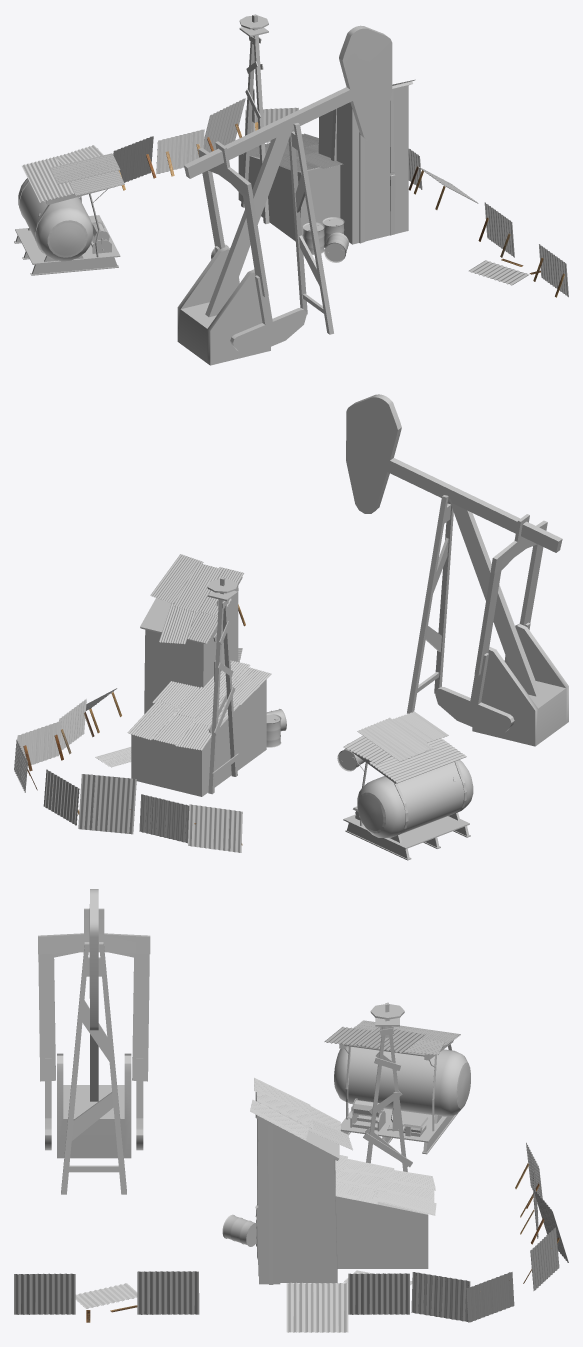
The model's file is MH_plant-block.fbx.
The picture shows the model from 3 angles, top to bottom: view 1: azimuth 30°, elevation 25°; view 2: azimuth 150°, elevation 25°; view 3: azimuth 270°, elevation 25°; orthographic projection. The views are drawn at different scales.
Visible parts, largest first — view 1: pompa1, corpo1, corrugati_benzina, polySurface90, polySurface2, polySurface89, corrugati6, polySurface15, polySurface14, polySurface16, barile5, polySurface1; view 2: pompa1, corpo1, corrugati_benzina, corrugati6, polySurface2, polySurface89, polySurface90, polySurface1, polySurface19, polySurface18; view 3: corpo1, pompa1, corrugati_benzina, corrugati6, polySurface17, polySurface15, polySurface18, polySurface14, polySurface19, polySurface20, polySurface1, polySurface16 (+2 smaller).
Boxes of the visible parts, x1,y1,x2,y2 form: pompa1: (177,25,392,365); corpo1: (238,14,412,244); corrugati_benzina: (14,145,124,275); polySurface90: (156,129,204,174); polySurface2: (203,98,245,152); polySurface89: (113,136,153,182); corrugati6: (243,79,415,171); polySurface15: (484,202,514,257); polySurface14: (539,244,568,297); polySurface16: (469,260,529,285); barile5: (324,232,348,262); polySurface1: (245,107,298,142); pompa1: (346,394,568,746); corpo1: (131,577,266,796); corrugati_benzina: (343,711,473,860); corrugati6: (95,554,271,767); polySurface2: (78,774,136,834); polySurface89: (188,804,242,852); polySurface90: (139,794,189,843); polySurface1: (43,769,79,825); polySurface19: (17,721,61,765); polySurface18: (59,699,86,749); corpo1: (255,1002,428,1284); pompa1: (38,889,150,1194); corrugati_benzina: (324,1020,470,1154); corrugati6: (250,1077,436,1285); polySurface17: (286,1282,348,1332); polySurface15: (137,1271,199,1314); polySurface18: (348,1273,409,1314); polySurface14: (14,1273,75,1314); polySurface19: (411,1272,470,1321); polySurface20: (466,1272,514,1322); polySurface1: (530,1227,559,1290); polySurface16: (75,1283,137,1308).
Bounding box in the file's own units: 23.72 × 15.87 × 24.28.
